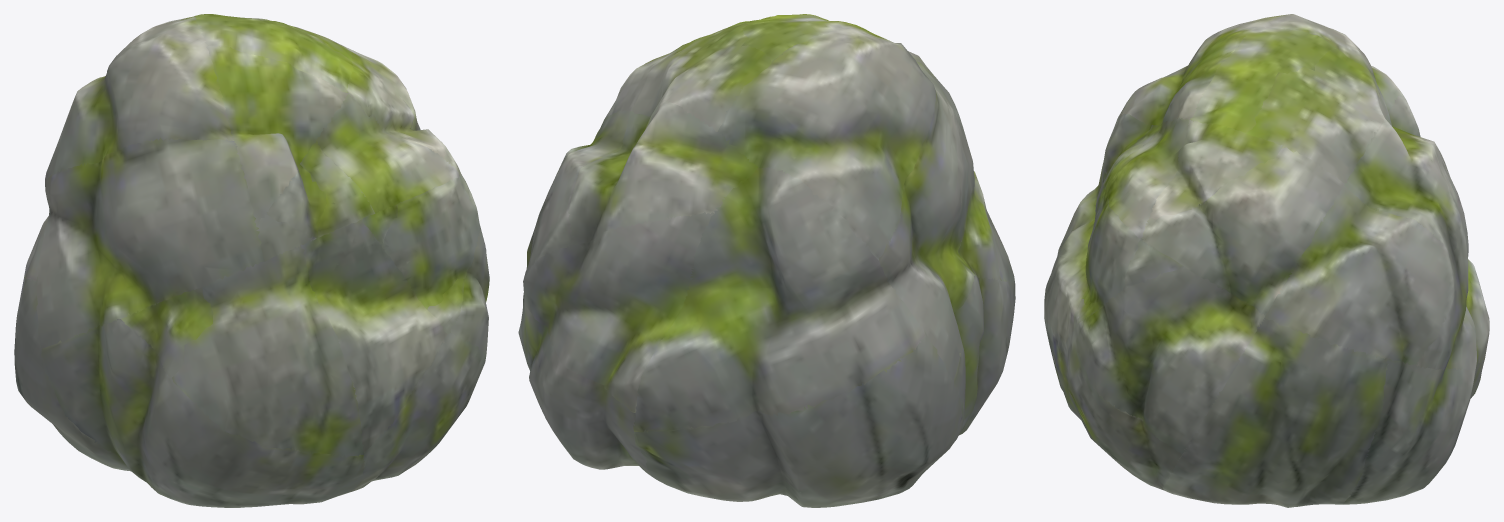
Rendered from mossy-boulder.glb.
The picture shows the model from 3 angles, left to right: view 1: azimuth 30°, elevation 25°; view 2: azimuth 150°, elevation 25°; view 3: azimuth 270°, elevation 25°; orthographic projection. The views are drawn at different scales.
Bounding box in the file's own units: 1.83 × 1.84 × 1.9.
1 material, 1 textured.
